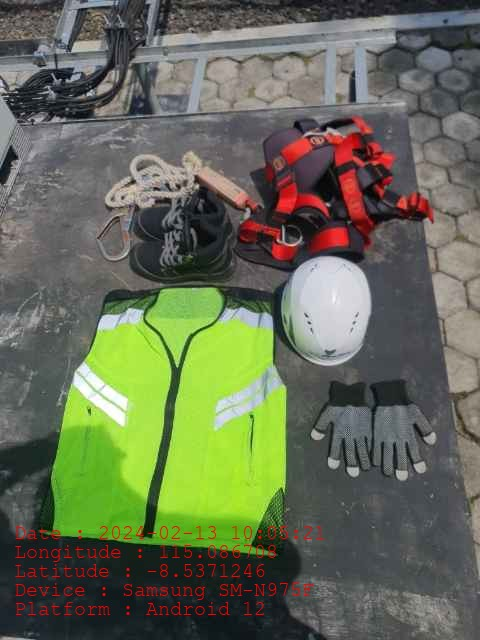HELM: (281, 256, 370, 365)
ROMPI: (58, 284, 287, 526)
SARUNG_TANGAN: (368, 380, 435, 478), (308, 380, 371, 477)
SEPATU: (132, 192, 235, 281)
TAMBANG_SLING: (105, 148, 196, 202)
